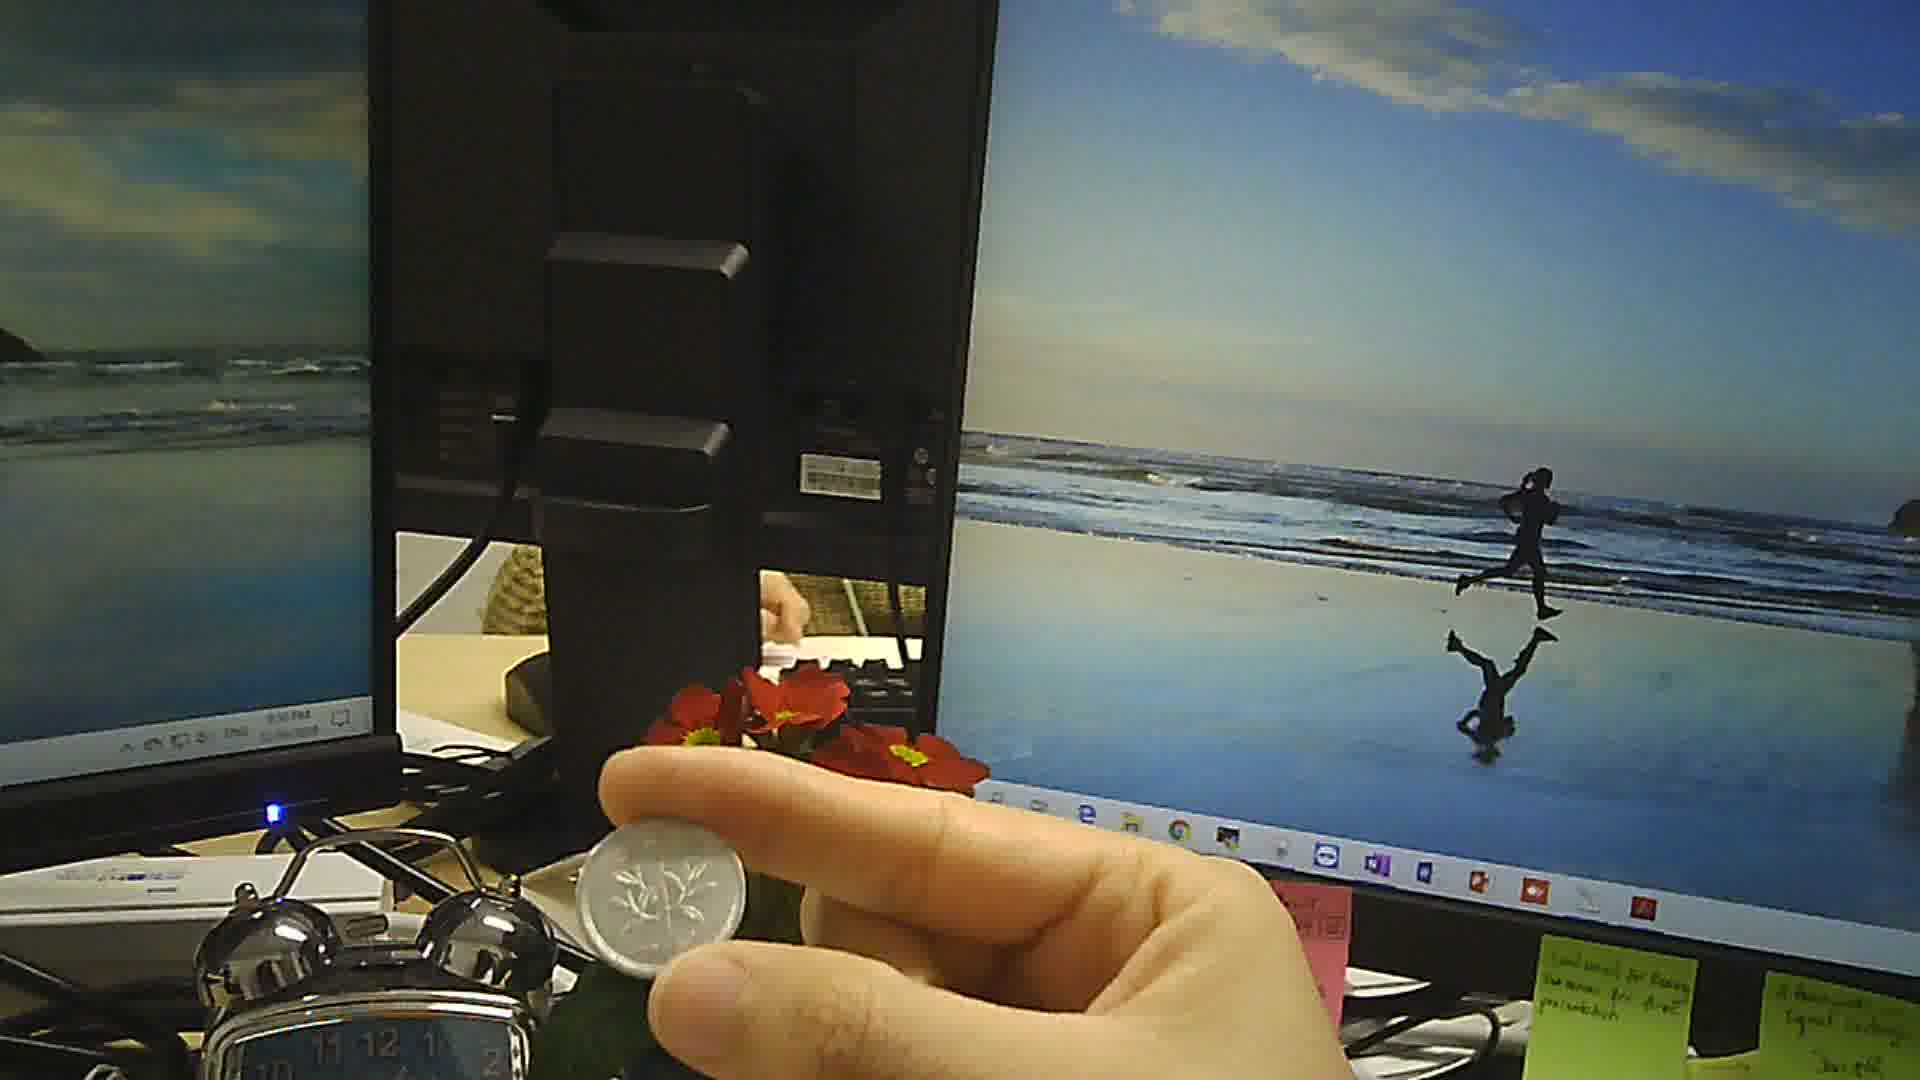1 Yen: (576, 804, 758, 963)
